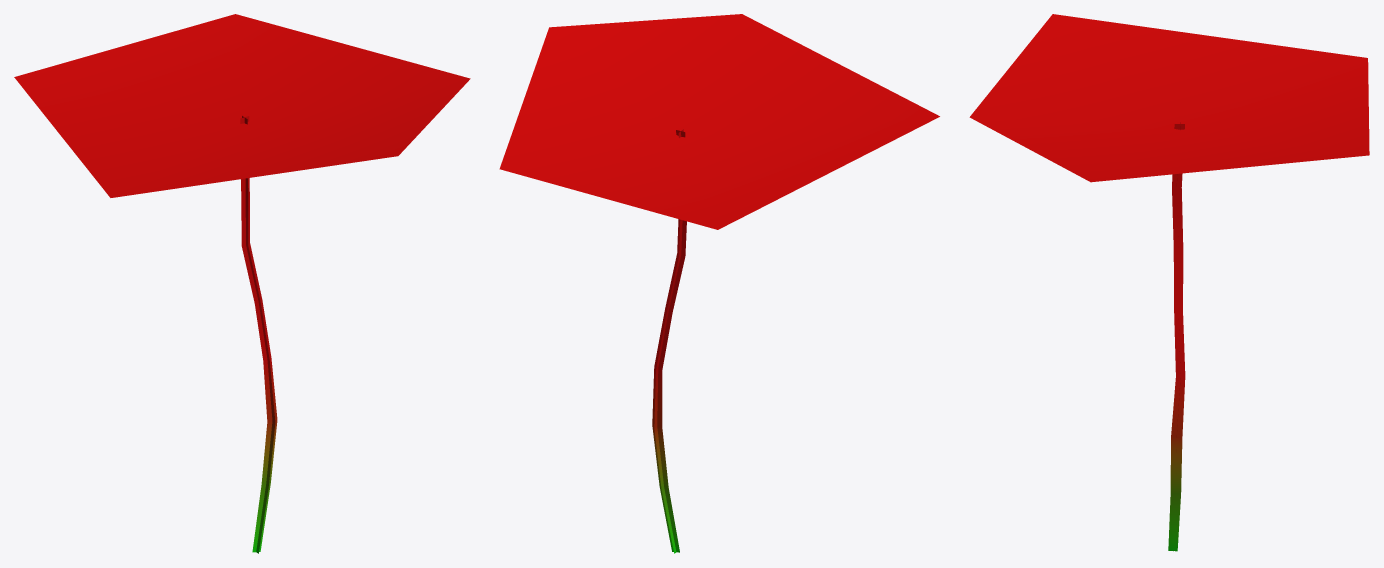
Rendered from Wood Sorrel_LOD1_Var17_wcwmchzja.fbx.
3 renders of one model, left to right at view 1: azimuth 30°, elevation 25°; view 2: azimuth 150°, elevation 25°; view 3: azimuth 270°, elevation 25°, orthographic. The views are drawn at different scales.
Visible parts, largest first — view 1: _3tp5_Var17_LOD1; view 2: _3tp5_Var17_LOD1; view 3: _3tp5_Var17_LOD1.
Part boxes in pixels (x1,y1,x2,y2): _3tp5_Var17_LOD1: (14, 14, 470, 553); _3tp5_Var17_LOD1: (499, 14, 939, 553); _3tp5_Var17_LOD1: (969, 14, 1369, 551).
Size of the model in its own units: 6.97 by 8.14 by 6.52.
